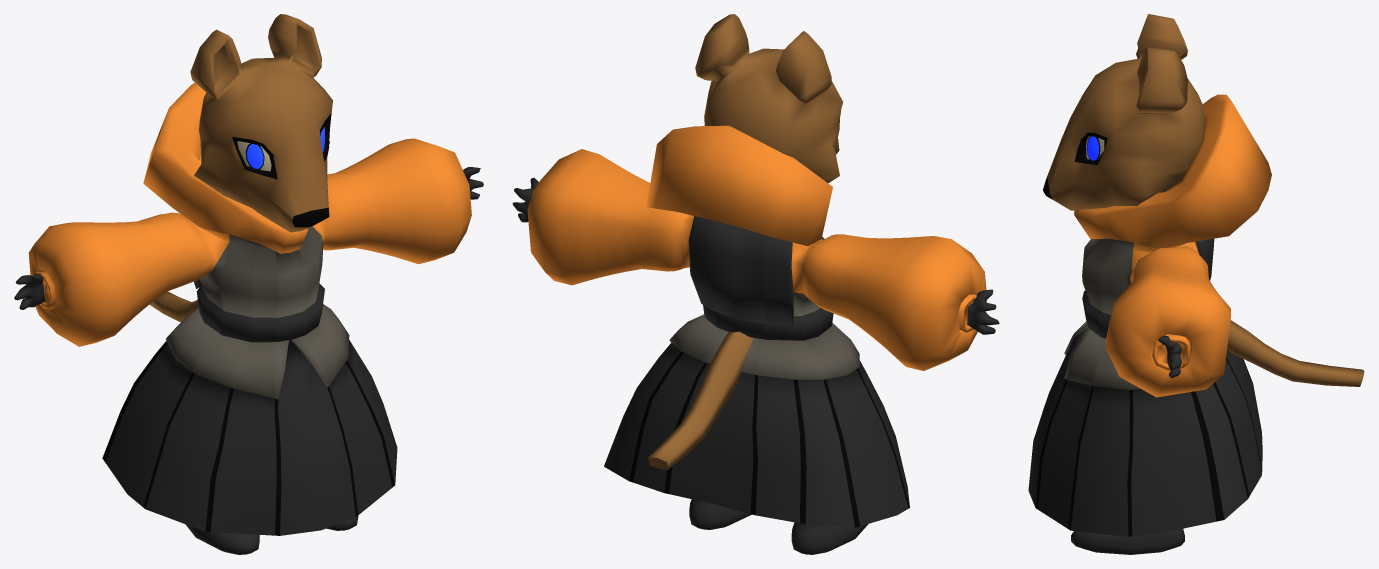
The model's file is Quokka.glb.
3 views of the same model, side by side, from view 1: azimuth 30°, elevation 25°; view 2: azimuth 150°, elevation 25°; view 3: azimuth 270°, elevation 25° (orthographic). The views are drawn at different scales.
Visible parts, largest first — view 1: Girl2; view 2: Girl2; view 3: Girl2.
Part boxes in pixels (<box>): Girl2: <box>14,14,483,554</box>; Girl2: <box>512,14,999,554</box>; Girl2: <box>1028,14,1364,554</box>.
Bounding box in the file's own units: 1.08 × 1.08 × 0.6702.
